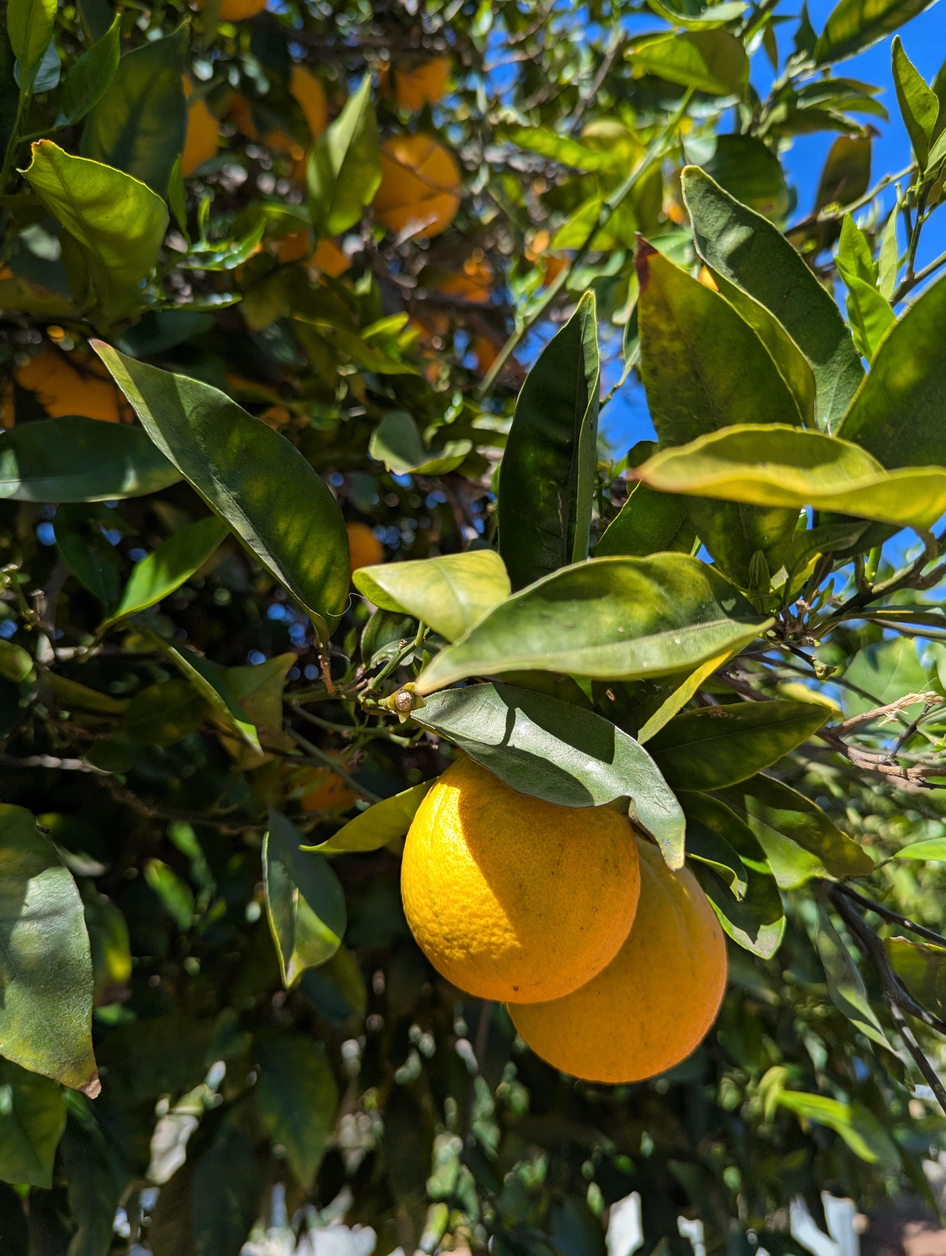orange: (401, 757, 640, 1004), (506, 837, 727, 1083), (2, 352, 134, 430), (373, 133, 460, 238), (234, 65, 327, 151), (292, 749, 357, 811), (181, 75, 219, 178), (381, 58, 450, 111), (437, 255, 491, 303), (525, 230, 568, 286), (410, 317, 439, 384), (347, 522, 383, 574), (310, 238, 351, 277), (197, 0, 267, 22), (279, 229, 310, 263), (472, 336, 499, 371), (698, 264, 719, 290), (668, 204, 686, 224)
